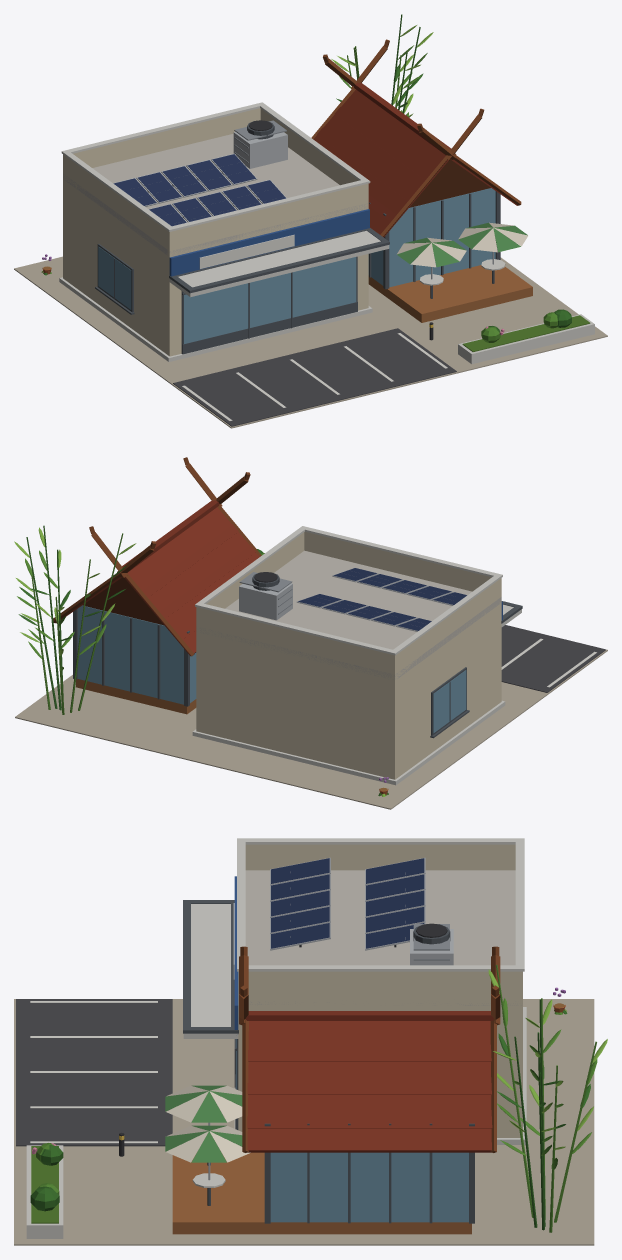
File: shop_1.glb
3 views of the same model, one above another, from view 1: azimuth 30°, elevation 25°; view 2: azimuth 150°, elevation 25°; view 3: azimuth 270°, elevation 25° (orthographic). The views are drawn at different scales.
Visible parts, largest first — view 1: body; view 2: body; view 3: body.
Boxes of the visible parts, box(x1,y1,x2,y2) form: body: box(14, 14, 607, 428); body: box(14, 457, 607, 809); body: box(14, 838, 607, 1245).
Size of the model in its own units: 16.84 by 7.45 by 16.28.
